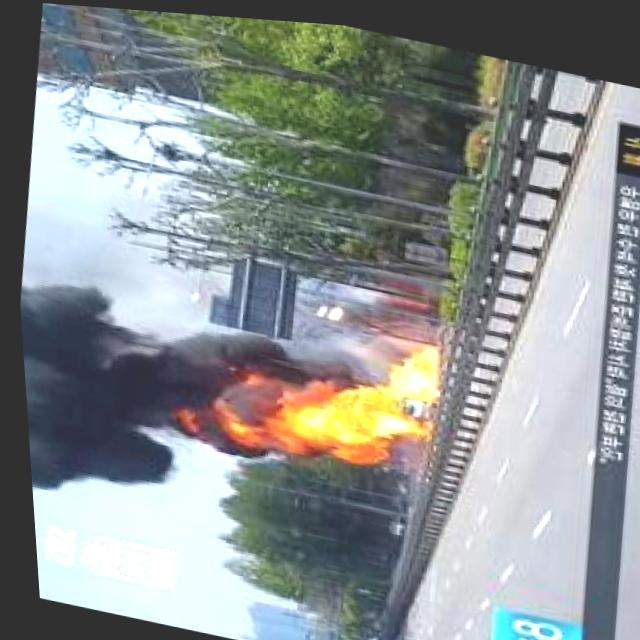Fire: (166, 354, 397, 467), (387, 337, 431, 399), (395, 404, 422, 437)
Smoke: (14, 271, 178, 514)
